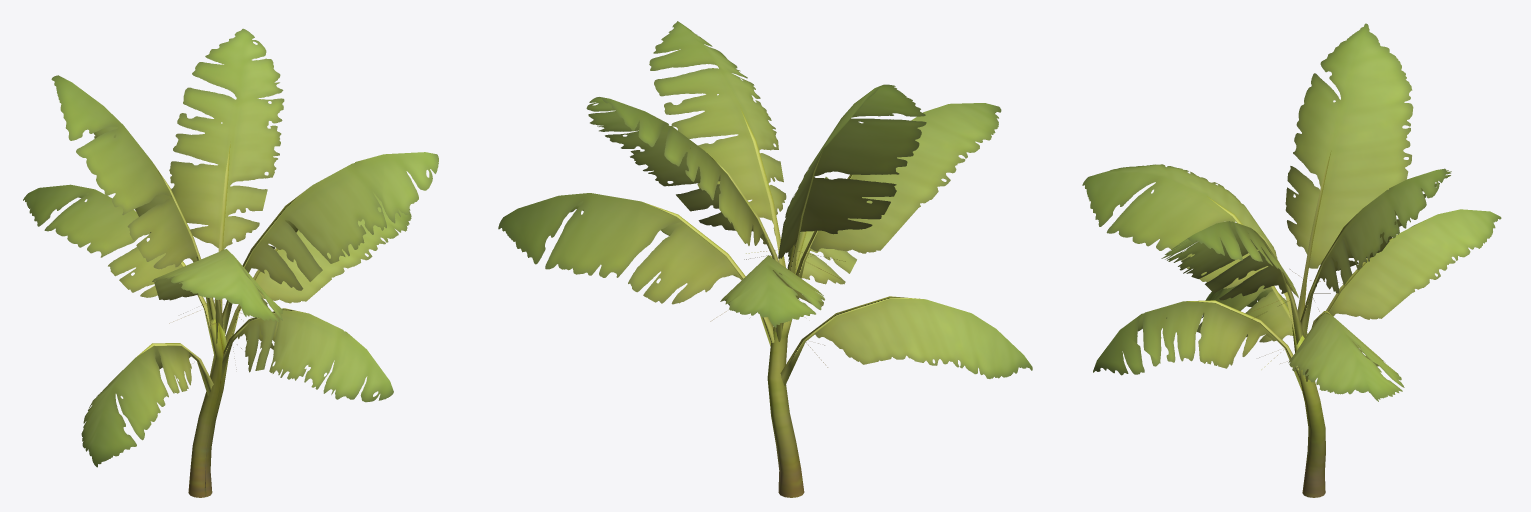
Rendered from banana plant 01_lod2.obj.
3 views of the same model, side by side, from view 1: azimuth 30°, elevation 25°; view 2: azimuth 150°, elevation 25°; view 3: azimuth 270°, elevation 25° (orthographic). The views are drawn at different scales.
Parts seen in each view (by area): view 1: tree; view 2: tree; view 3: tree.
Boxes of the visible parts, <box> form: tree: <box>23,28,438,497</box>; tree: <box>498,21,1032,497</box>; tree: <box>1082,23,1501,497</box>.
Size of the model in its own units: 275 by 272 by 263.
